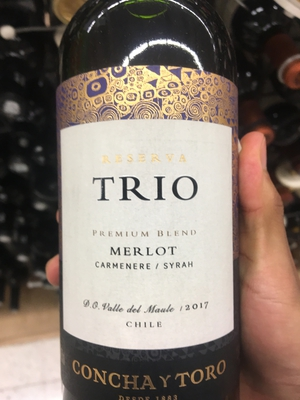trio merlot: (47, 17, 264, 394)
